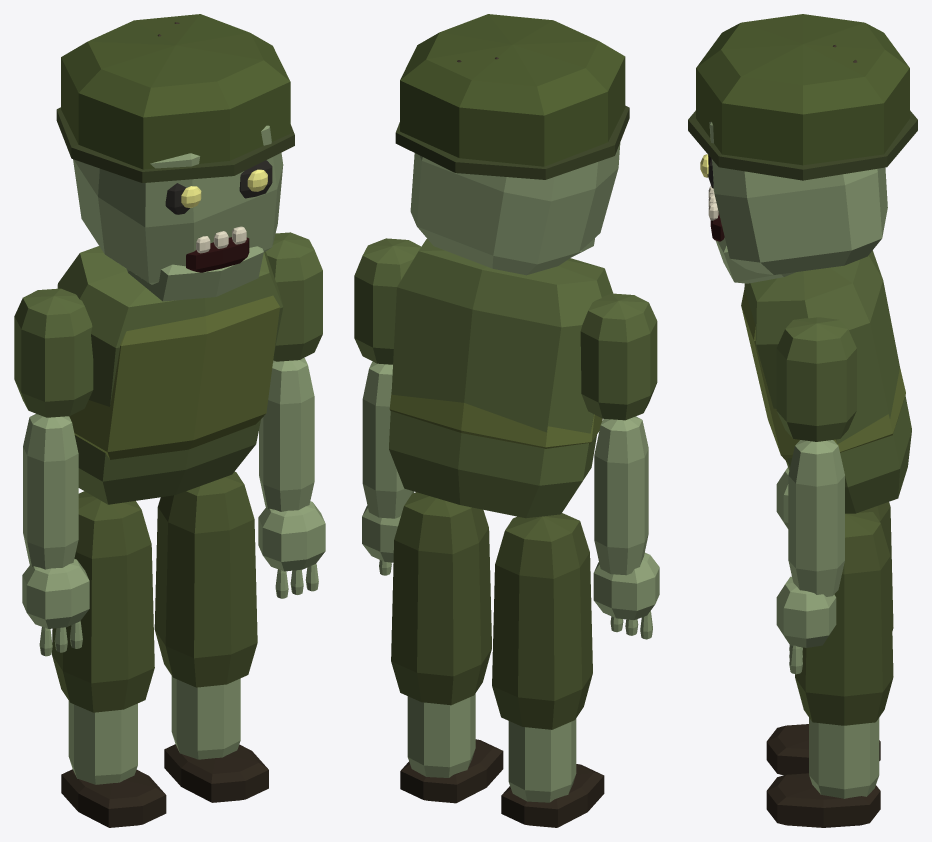
Rendered from mon-soldier-1.glb.
3 renders of one model, left to right at view 1: azimuth 30°, elevation 25°; view 2: azimuth 150°, elevation 25°; view 3: azimuth 270°, elevation 25°, orthographic.
Parts seen in each view (by area): view 1: head, torso, leg-left, leg-right, arm-right, arm-left; view 2: head, torso, leg-right, leg-left, arm-right, arm-left; view 3: head, leg-left, arm-left, torso, leg-right, arm-right.
Boxes of the visible parts, box(x1,y1,x2,y2) form: head: box(56, 14, 294, 301); torso: box(57, 246, 283, 504); leg-left: box(154, 471, 268, 802); leg-right: box(52, 491, 166, 827); arm-right: box(14, 288, 93, 656); arm-left: box(258, 232, 325, 598); head: box(395, 14, 629, 275); torso: box(389, 239, 613, 518); leg-right: box(492, 513, 604, 827); leg-left: box(391, 492, 503, 803); arm-right: box(580, 293, 659, 639); arm-left: box(354, 238, 421, 575); head: box(688, 14, 917, 283); leg-left: box(766, 511, 893, 827); arm-left: box(776, 317, 856, 674); torso: box(741, 250, 911, 513); leg-right: box(766, 502, 893, 775); arm-right: box(776, 467, 789, 528).
Bounding box in the file's own units: 0.9745 × 2.4 × 0.6698.
